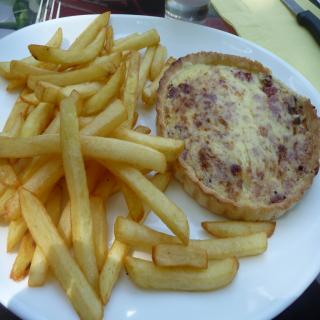French fries: (0, 8, 277, 320)
